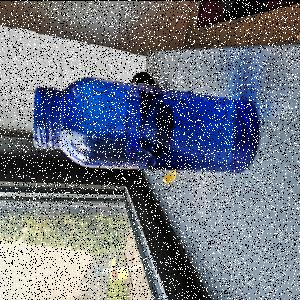Plastic-bottle: (33, 76, 262, 176)
